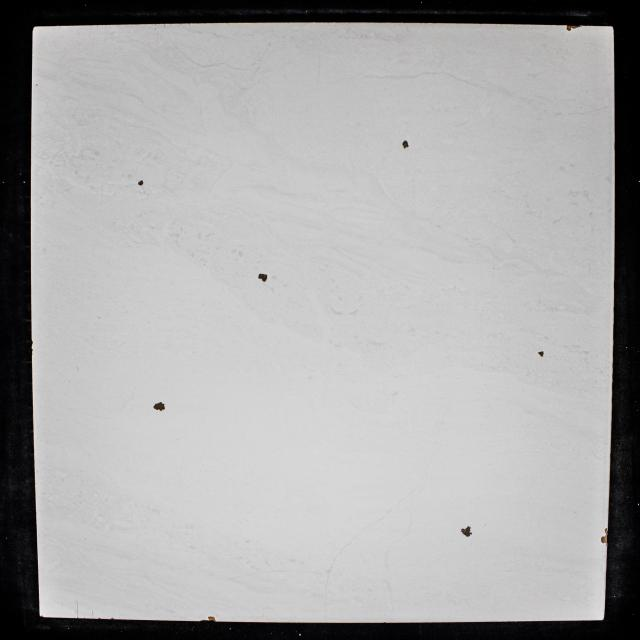edge-chipping: (600, 527, 609, 546), (566, 24, 581, 30), (200, 616, 216, 621), (40, 615, 44, 617)
hole: (460, 525, 473, 538), (153, 402, 166, 412), (258, 272, 268, 282), (401, 140, 410, 150), (537, 350, 545, 358), (138, 179, 144, 187)
line: (75, 600, 80, 617)
